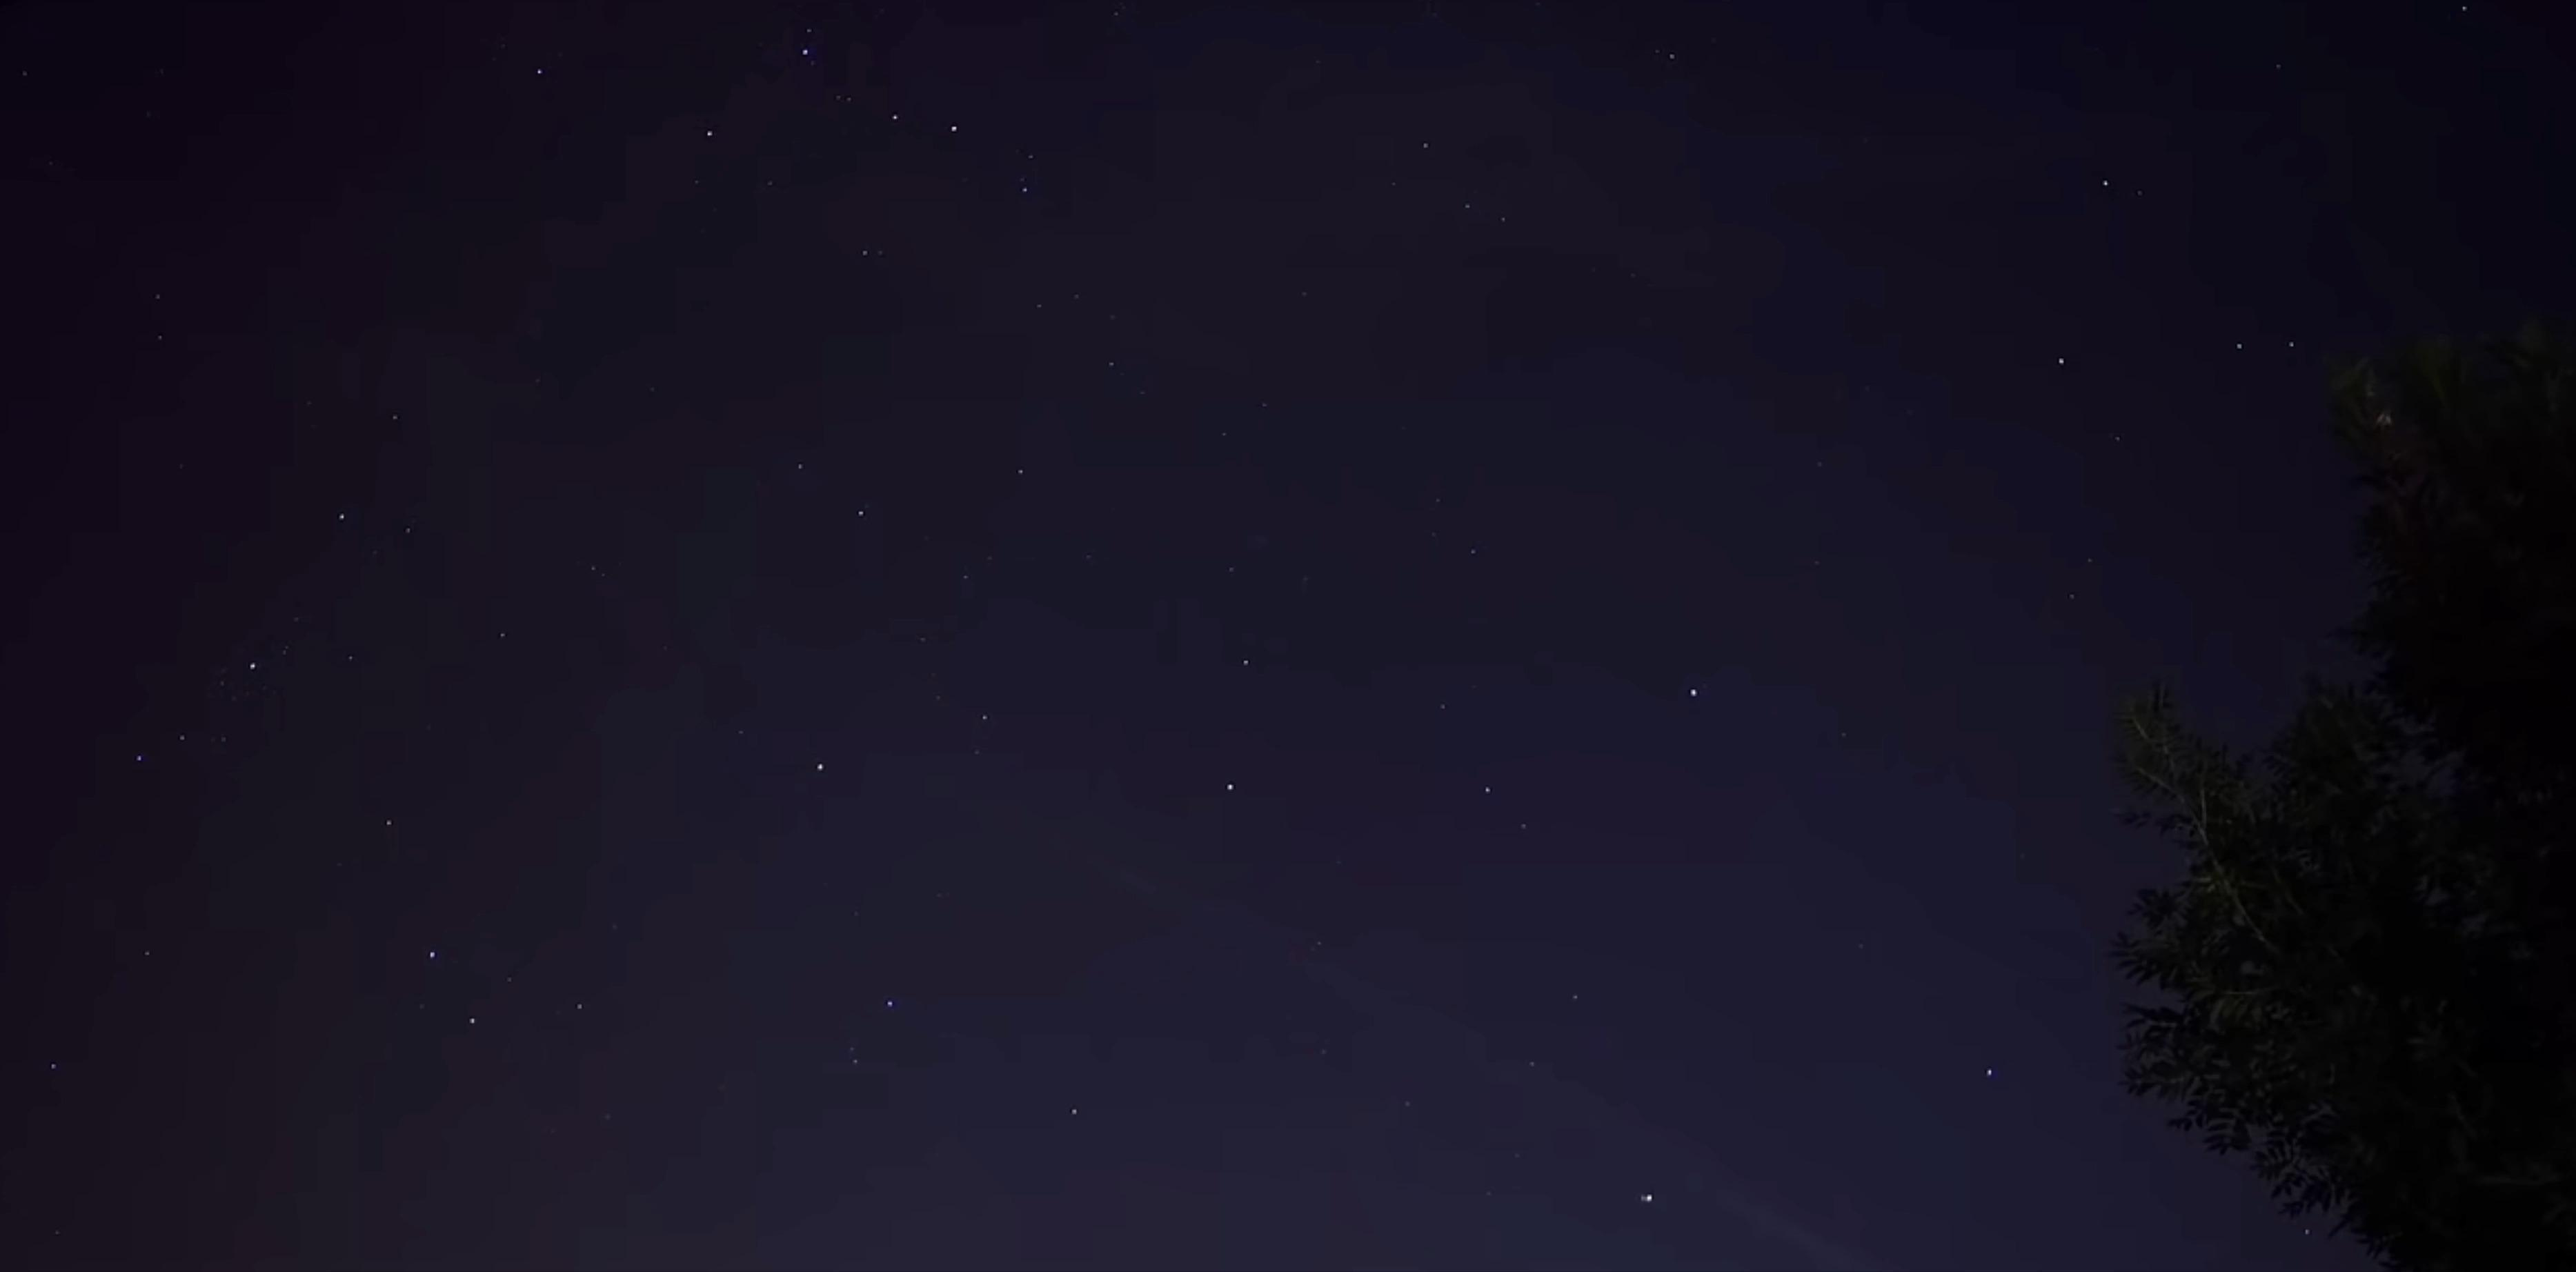Plane: (1633, 1183, 1663, 1216)
